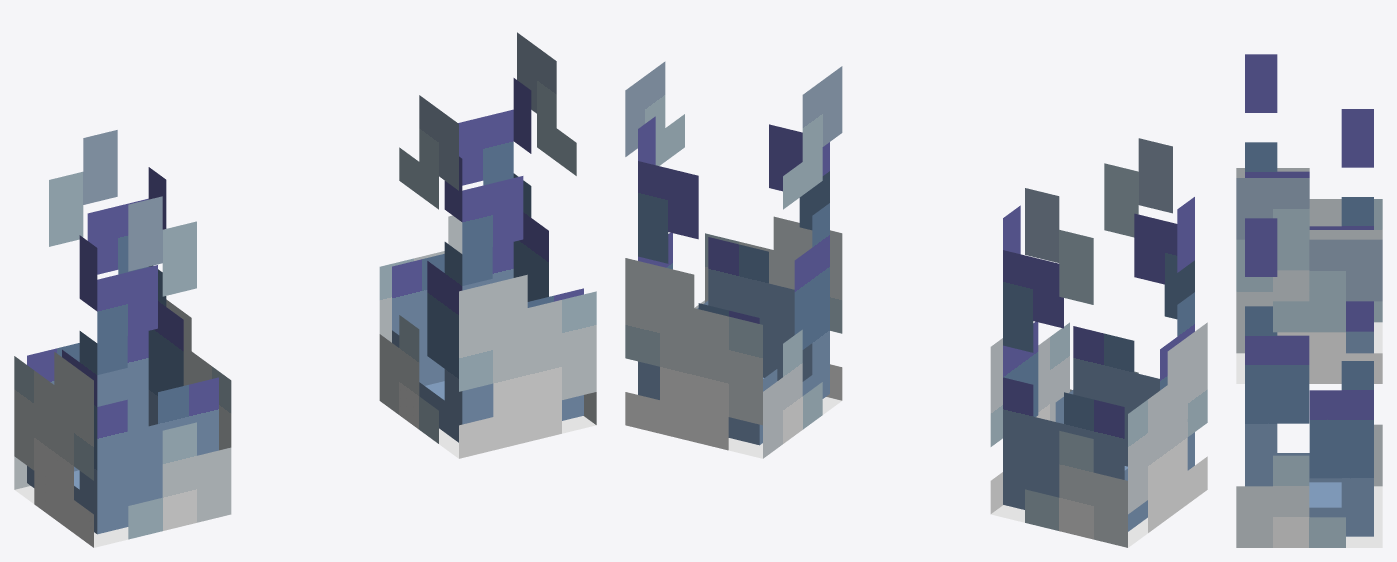
File: sl_spirit_flame_fists.glb
3 renders of one model, left to right at view 1: azimuth 30°, elevation 25°; view 2: azimuth 150°, elevation 25°; view 3: azimuth 270°, elevation 25°, orthographic. The views are drawn at different scales.
Visible parts, largest first — view 1: bb_spirit_flame_fists; view 2: bb_spirit_flame_fists; view 3: bb_spirit_flame_fists.
Boxes of the visible parts, left/top/right/bottom form: bb_spirit_flame_fists: left=14, top=32, right=596, bottom=547; bb_spirit_flame_fists: left=625, top=61, right=1207, bottom=547; bb_spirit_flame_fists: left=1236, top=54, right=1382, bottom=547.
Size of the model in its own units: 1.03 by 0.7038 by 0.2825.
Materials: 1 (1 with a texture image).
